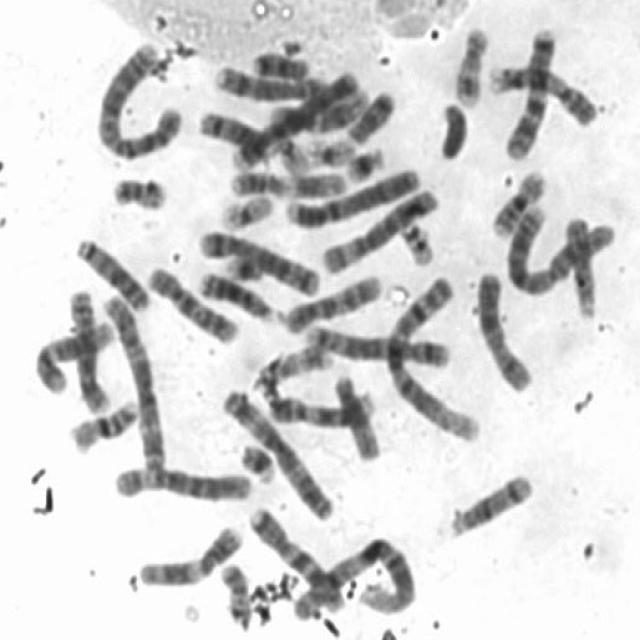A1: (379, 270, 483, 446), (285, 529, 420, 623)
A2: (91, 34, 188, 162), (501, 198, 622, 298)
A3: (217, 383, 336, 523), (97, 286, 168, 472)
B4: (225, 62, 365, 173), (278, 159, 424, 231)
B5: (192, 221, 324, 298), (300, 315, 453, 369)
C10: (140, 257, 242, 346), (276, 266, 386, 335)
C11: (132, 516, 247, 590), (223, 163, 350, 200)
C12: (30, 314, 117, 395), (265, 80, 375, 137)
C6: (315, 180, 441, 276), (106, 457, 258, 505)
C7: (244, 499, 349, 614), (499, 18, 562, 162)
C8: (62, 281, 112, 415), (208, 58, 337, 104)
C9: (482, 55, 600, 128), (259, 381, 377, 429)
D13: (70, 230, 152, 314), (193, 263, 281, 325)
D14: (442, 466, 537, 540), (194, 104, 278, 166)
D15: (327, 366, 385, 462), (558, 208, 599, 321)
E16: (486, 162, 549, 239), (65, 391, 142, 454)
E17: (249, 338, 337, 392), (447, 18, 492, 108)
E18: (342, 83, 400, 145), (246, 42, 312, 82)
F19: (213, 186, 276, 232), (302, 128, 358, 169)
F20: (215, 554, 254, 630), (106, 169, 170, 212)
G21: (234, 434, 280, 486), (338, 139, 388, 186)
G22: (269, 122, 311, 176), (395, 215, 438, 267)
X: (469, 264, 536, 396)
Y: (432, 94, 471, 162)
